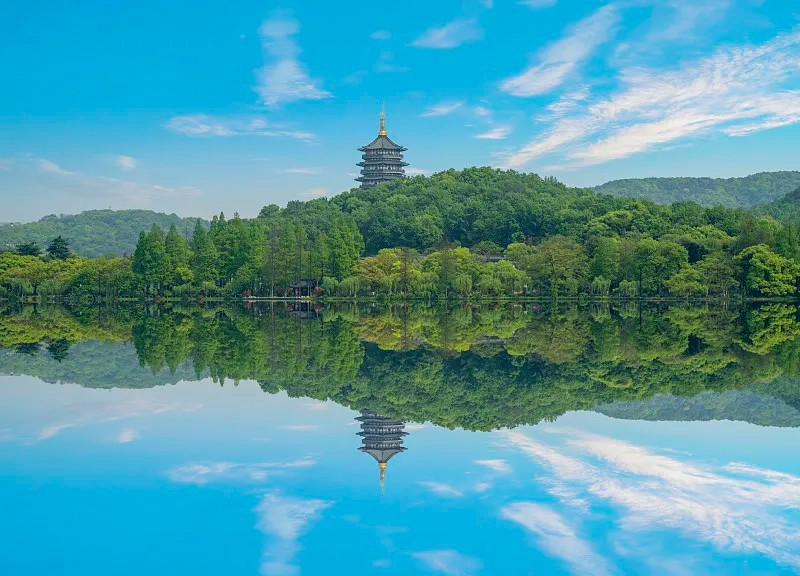Leifeng: (352, 100, 410, 187)
